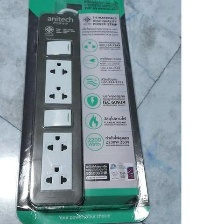book: (12, 0, 152, 224)
three_eye_plug: (24, 11, 86, 216)
